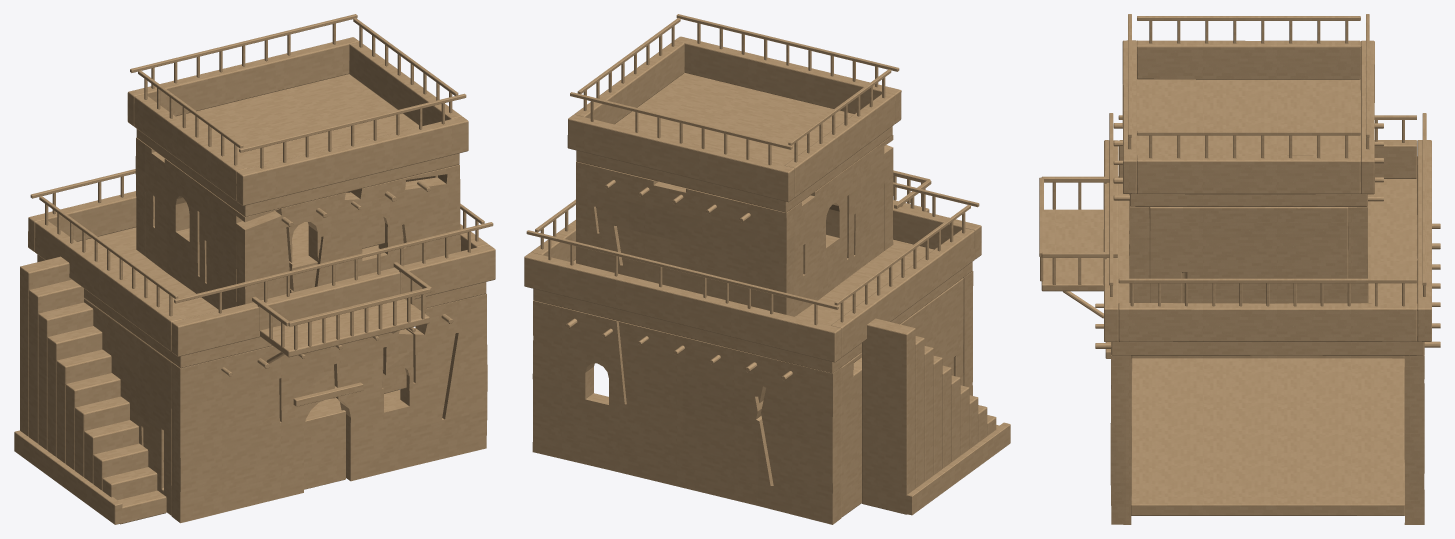
3 views of the same model, side by side, from view 1: azimuth 30°, elevation 25°; view 2: azimuth 150°, elevation 25°; view 3: azimuth 270°, elevation 25° (orthographic). The views are drawn at different scales.
Parts seen in each view (by area): view 1: house; view 2: house; view 3: house.
Boxes of the visible parts, bbox=[...] form: house: bbox=[14, 14, 495, 524]; house: bbox=[524, 14, 1010, 524]; house: bbox=[1039, 14, 1440, 524].
Bounding box in the file's own units: 10.55 × 9.74 × 9.22.
1 material, 1 textured.
